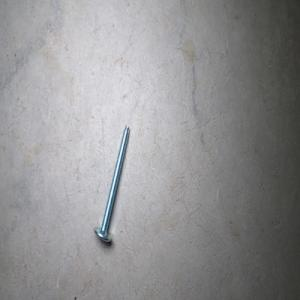Bolt: (93, 124, 130, 243)
